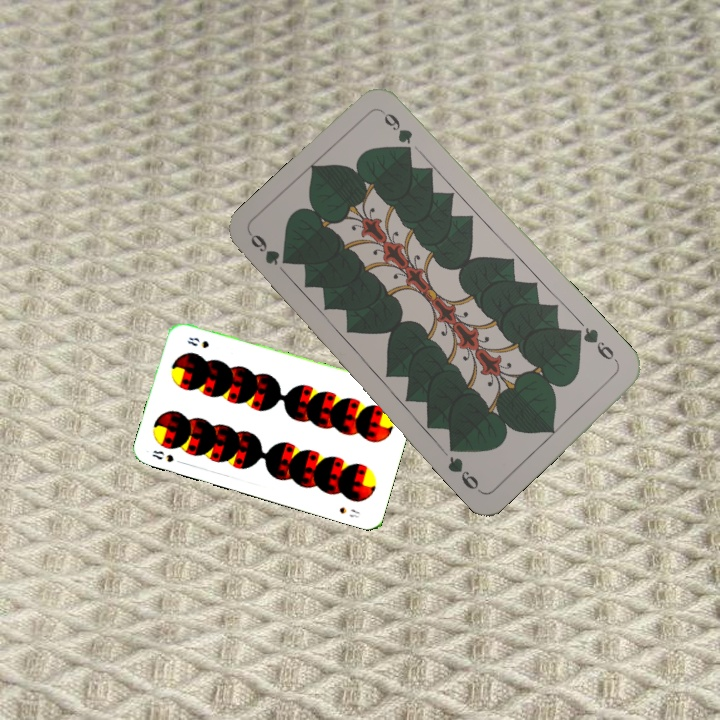G9: (571, 323, 622, 367), (246, 230, 282, 268)
S8: (148, 446, 176, 465)
